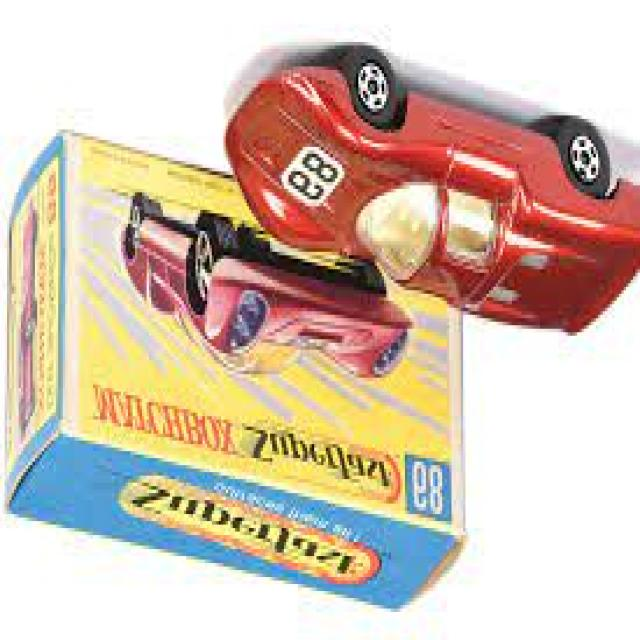Car: (221, 46, 638, 340), (119, 192, 412, 385)
